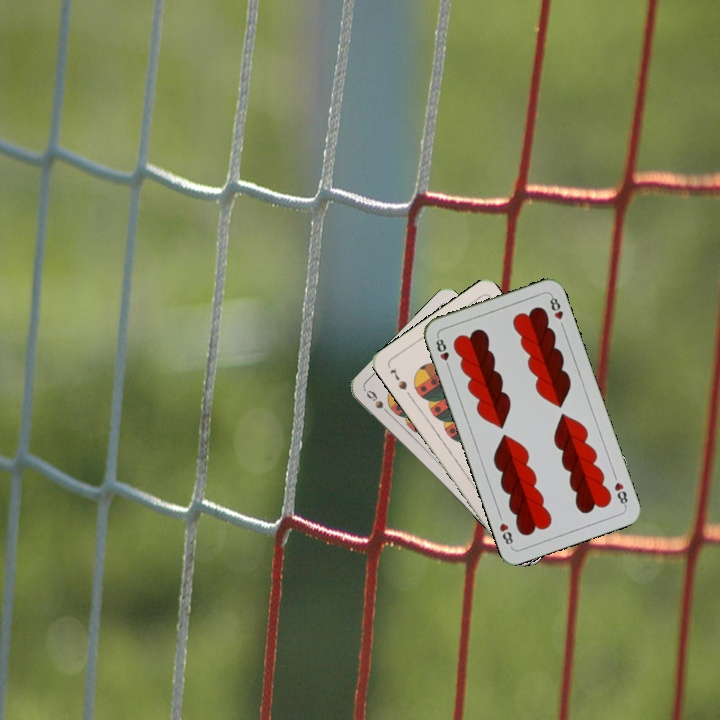H8: (432, 332, 453, 372), (610, 478, 630, 509)
S7: (386, 364, 410, 392)
S9: (362, 386, 394, 419)
